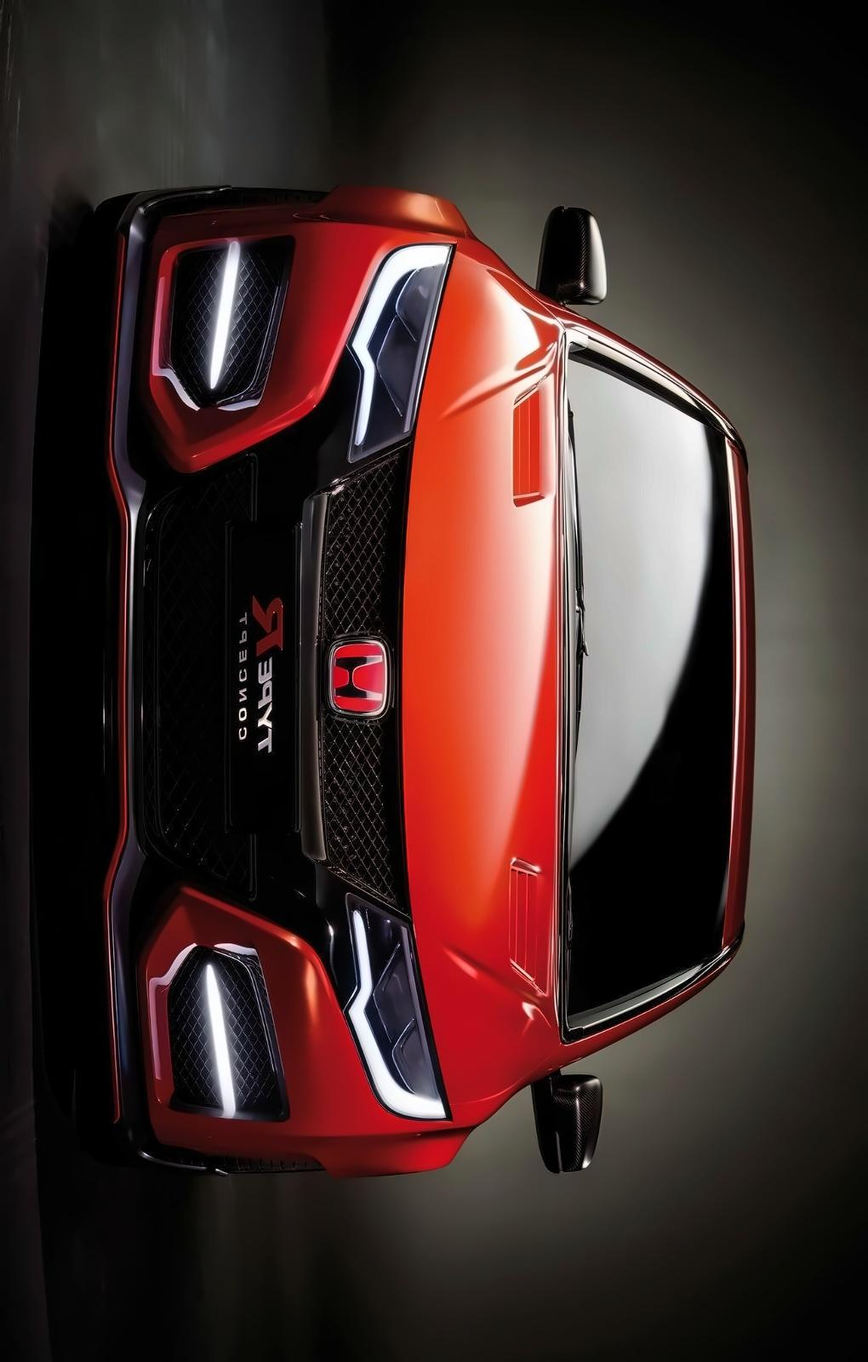Car hood: (398, 247, 584, 1111)
Front bumper: (66, 156, 336, 1192)
Headlight - -L-: (334, 881, 456, 1126)
Headlight - -R-: (328, 228, 464, 476)
Side mirror - -L-: (519, 1060, 619, 1190)
Side mirror - -R-: (524, 190, 623, 326)
